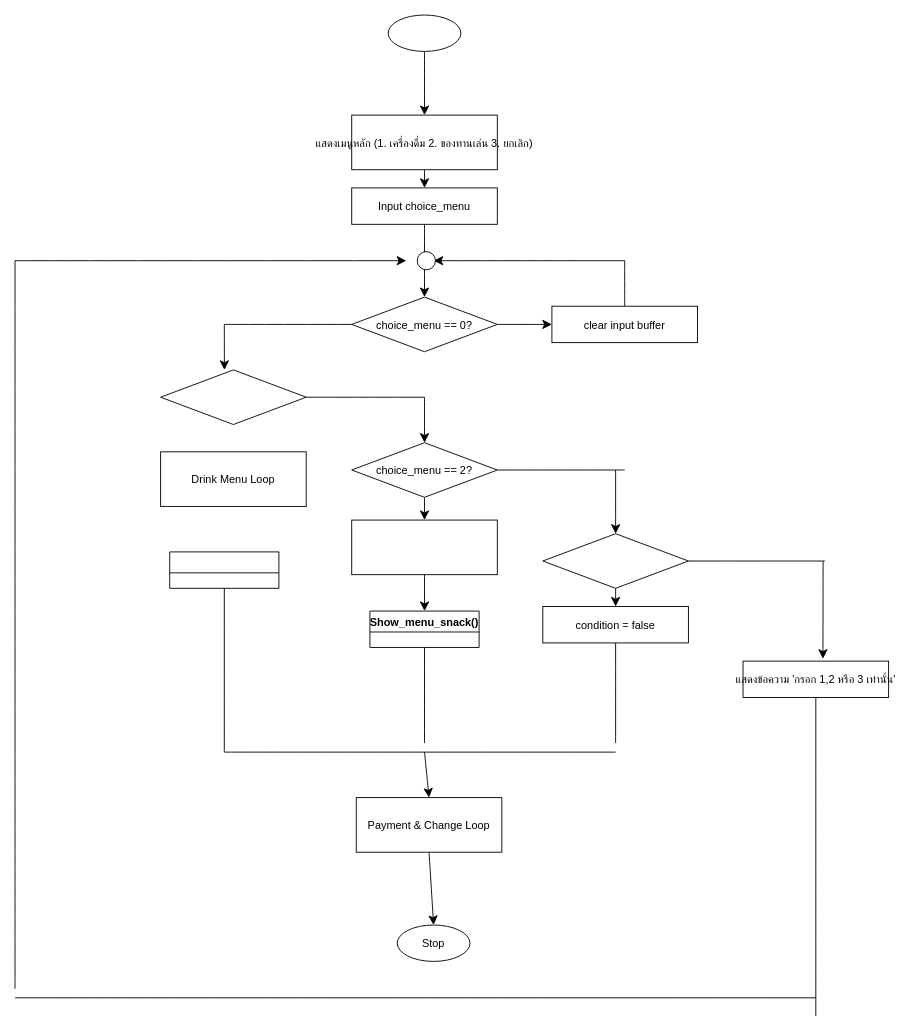
Image size: 910x1031. Some labels were removed from this diagram. Each missing label, with the centre of its shape:
choice_menu == 1?: point (233, 397)
choice_menu == 3?: point (615, 560)
Show_menu_drink(): point (224, 569)
Snack Menu Loop: point (424, 547)
Start: point (424, 32)
